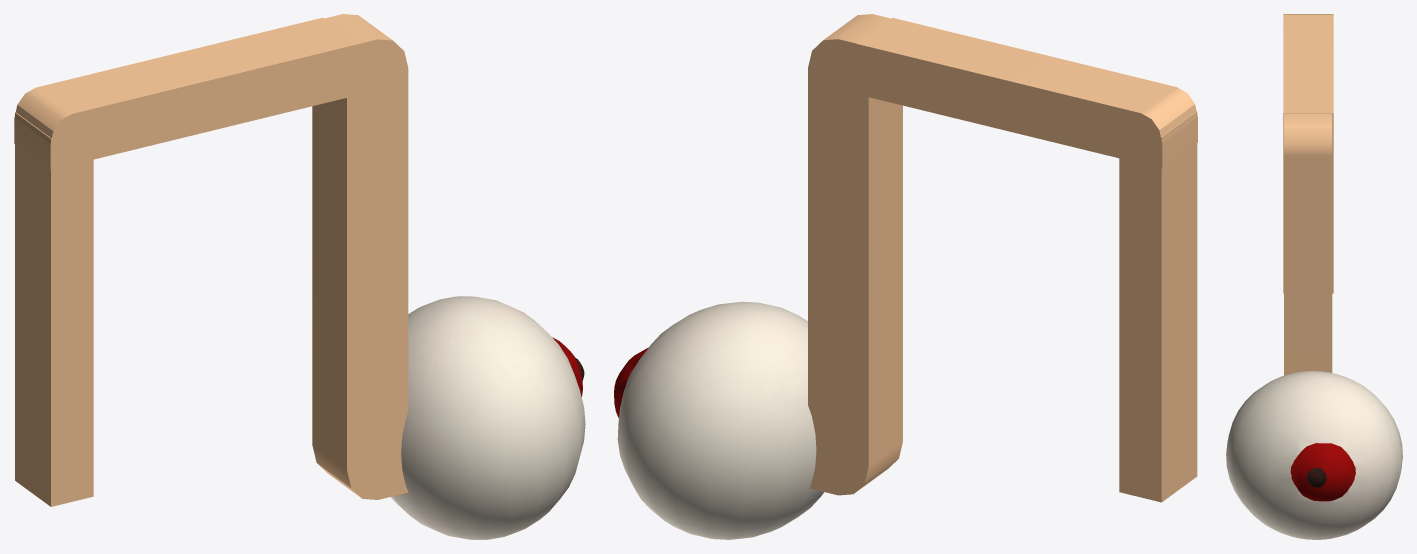
The model's file is ojo2.obj.
3 views of the same model, side by side, from view 1: azimuth 30°, elevation 25°; view 2: azimuth 150°, elevation 25°; view 3: azimuth 270°, elevation 25° (orthographic). The views are drawn at different scales.
Bounding box in the file's own units: 3.27 × 2.99 × 1.29.
4 materials, 4 textured.
